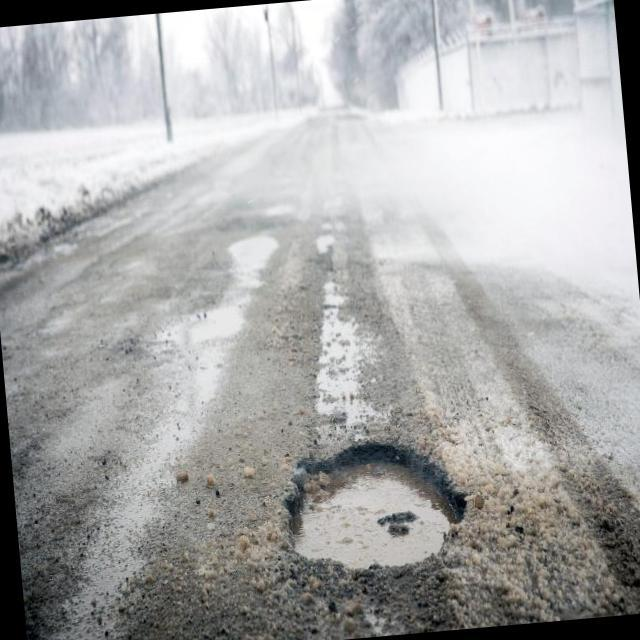Pothole: (282, 441, 466, 568)
